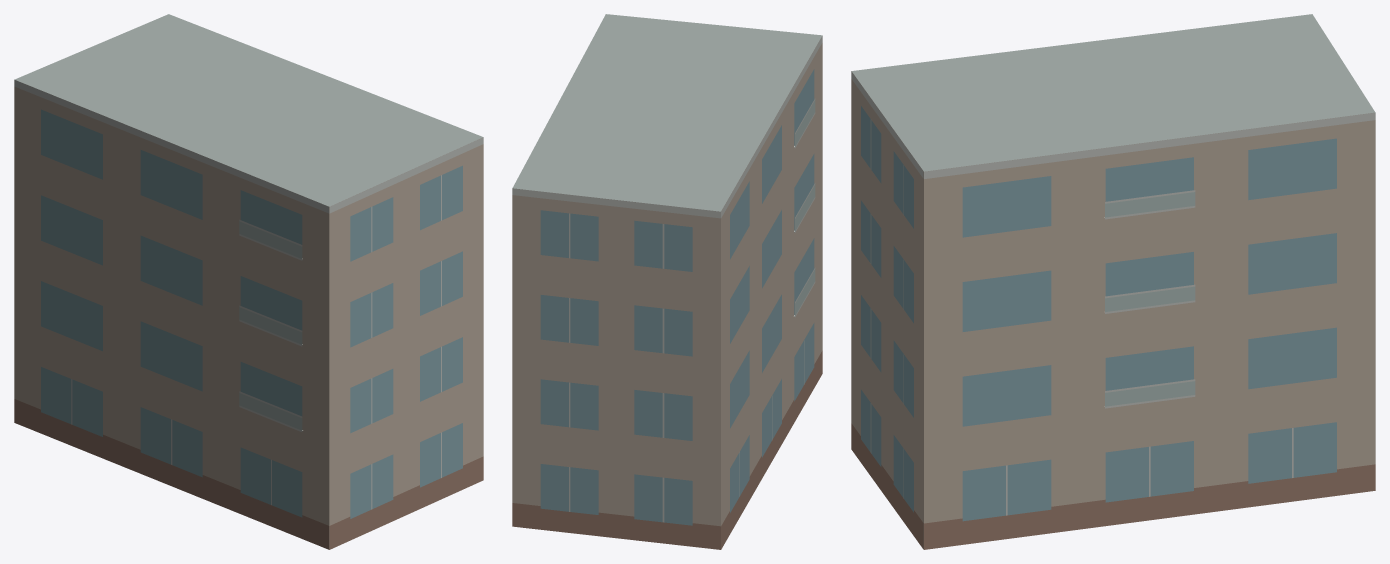
File: survey-upis-32730725.glb
The picture shows the model from 3 angles, left to right: view 1: azimuth 30°, elevation 25°; view 2: azimuth 150°, elevation 25°; view 3: azimuth 270°, elevation 25°; orthographic projection. The views are drawn at different scales.
Parts seen in each view (by area): view 1: survey-upis-32730725.tmp; view 2: survey-upis-32730725.tmp; view 3: survey-upis-32730725.tmp.
Boxes of the visible parts, bbox=[...] form: survey-upis-32730725.tmp: bbox=[14, 14, 483, 549]; survey-upis-32730725.tmp: bbox=[512, 14, 822, 549]; survey-upis-32730725.tmp: bbox=[851, 14, 1375, 549].
Bounding box in the file's own units: 10.91 × 12.2 × 15.33.
